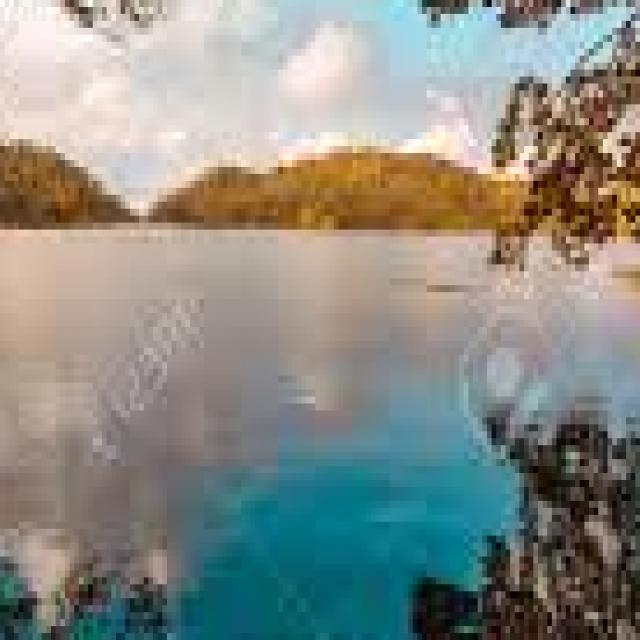-: (0, 229, 348, 640), (0, 258, 394, 410), (0, 466, 162, 556)
